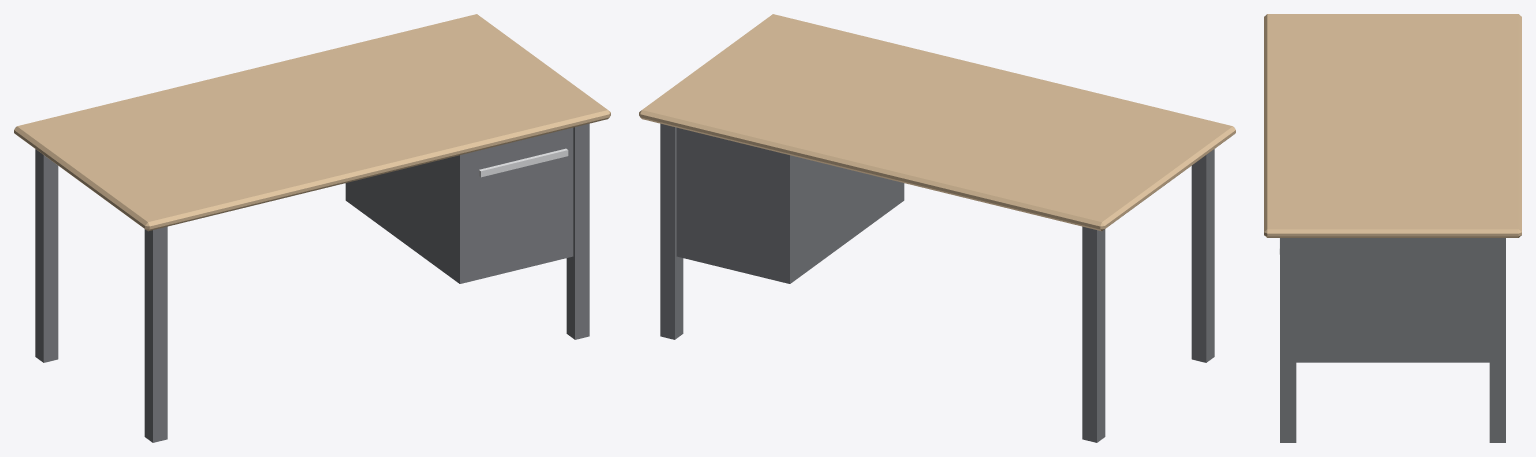
Rendered from desk.glb.
3 views of the same model, side by side, from view 1: azimuth 30°, elevation 25°; view 2: azimuth 150°, elevation 25°; view 3: azimuth 270°, elevation 25° (orthographic). The views are drawn at different scales.
Parts seen in each view (by area): view 1: desk; view 2: desk; view 3: desk.
Part boxes in pixels (x1,y1,x2,y2): desk: (14, 14, 610, 442); desk: (639, 14, 1235, 442); desk: (1264, 14, 1521, 442).
Bounding box in the file's own units: 1.6 × 0.75 × 0.8.
